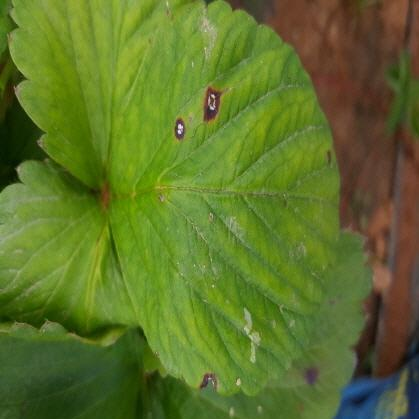Leaf Spot: (105, 0, 340, 395), (146, 229, 375, 418)
